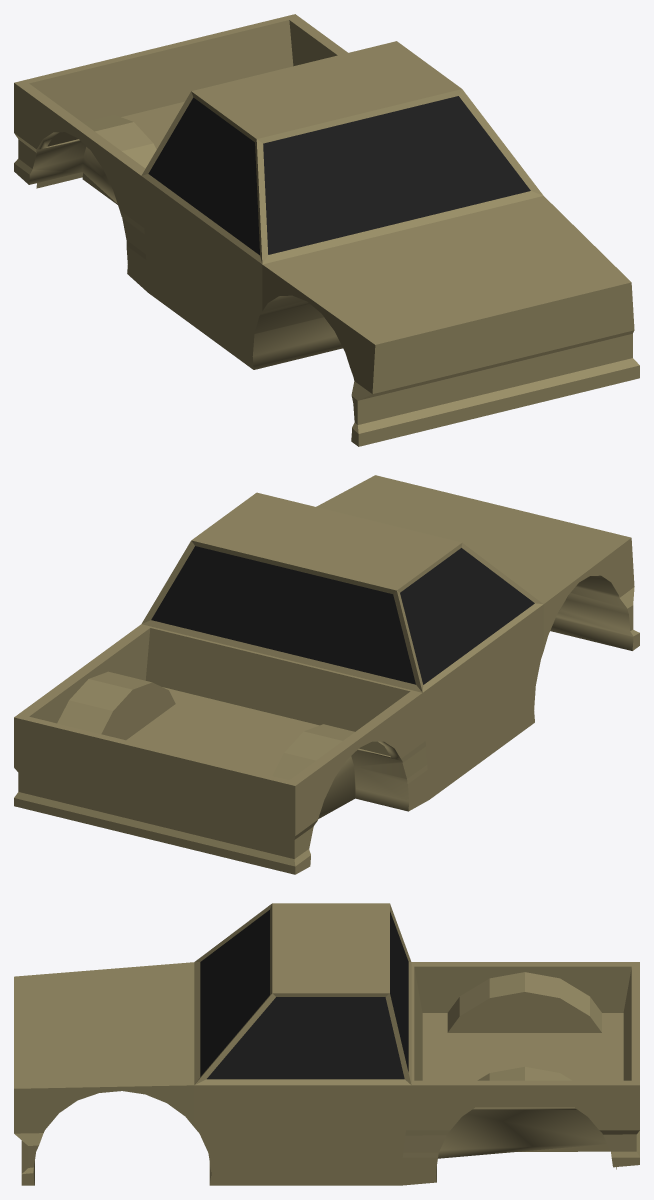
Rendered from carbody.glb.
3 renders of one model, top to bottom at view 1: azimuth 30°, elevation 25°; view 2: azimuth 150°, elevation 25°; view 3: azimuth 270°, elevation 25°, orthographic. The views are drawn at different scales.
Visible parts, largest first — view 1: Cylinder.005; view 2: Cylinder.005; view 3: Cylinder.005.
Boxes of the visible parts, x1,y1,x2,y2 form: Cylinder.005: [14, 14, 639, 446]; Cylinder.005: [14, 475, 639, 874]; Cylinder.005: [14, 903, 639, 1185].
Size of the model in its own units: 2.05 by 1.37 by 4.41.
